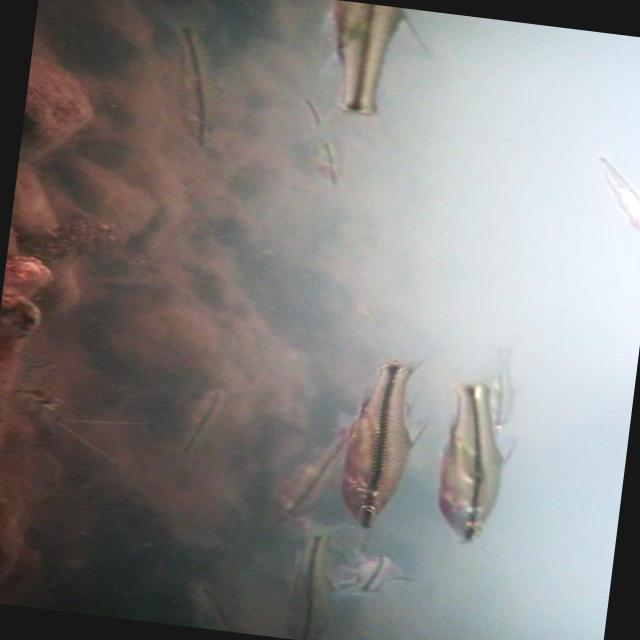Cakil Baligi: (312, 337, 436, 536), (422, 367, 520, 547)
